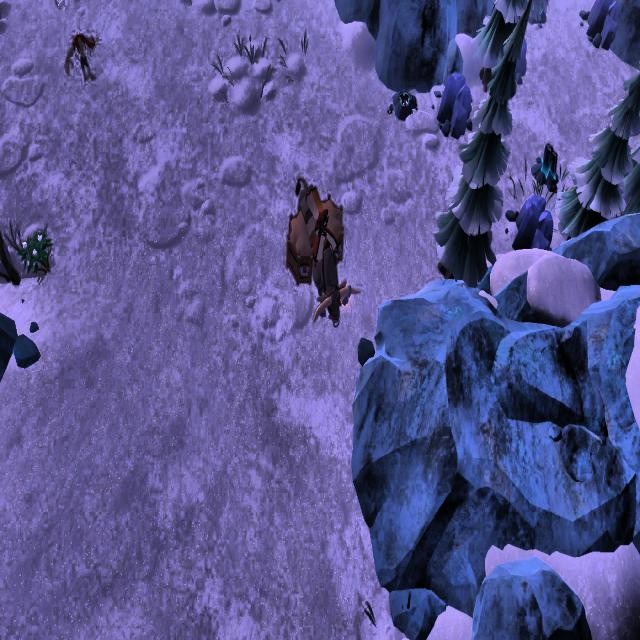enemy_factionUndead: (64, 29, 98, 85)
fiber_t3: (20, 232, 58, 281)
ore_t4: (538, 140, 559, 186)
rock_t4: (511, 188, 554, 258), (441, 70, 474, 134), (584, 0, 623, 52), (503, 31, 530, 88)
